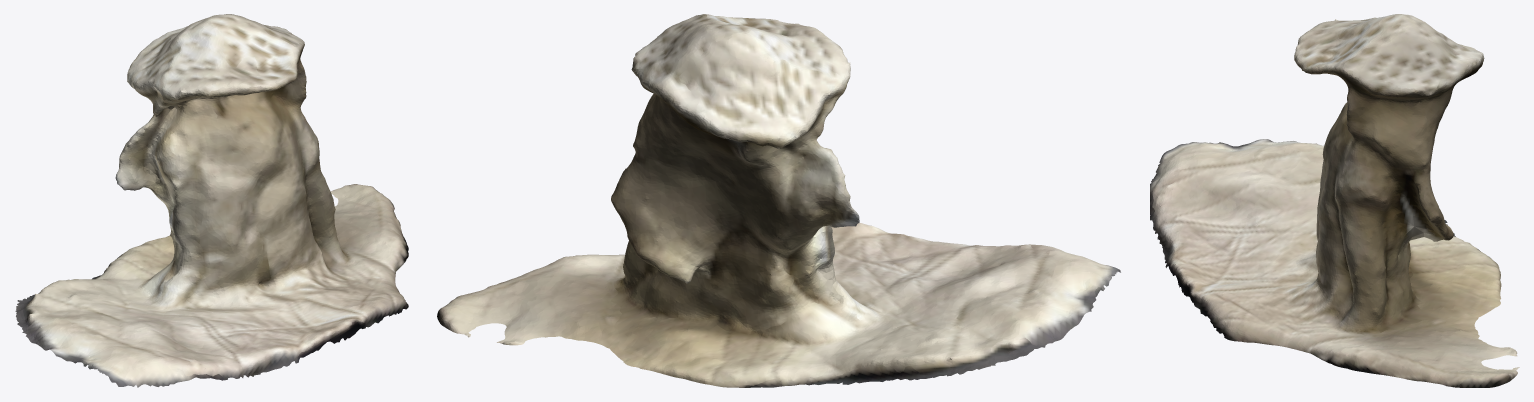
The model's file is Leafhuman.glb.
3 renders of one model, left to right at view 1: azimuth 30°, elevation 25°; view 2: azimuth 150°, elevation 25°; view 3: azimuth 270°, elevation 25°, orthographic. The views are drawn at different scales.
Visible parts, largest first — view 1: mesh.003; view 2: mesh.003; view 3: mesh.003.
Part boxes in pixels (<box>): mesh.003: <box>15,14,408,387</box>; mesh.003: <box>437,14,1120,387</box>; mesh.003: <box>1150,14,1519,387</box>.
Size of the model in its own units: 0.377 by 0.2113 by 0.2665.
Materials: 1 (1 with a texture image).
